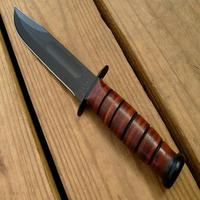knife: (11, 4, 178, 177)
